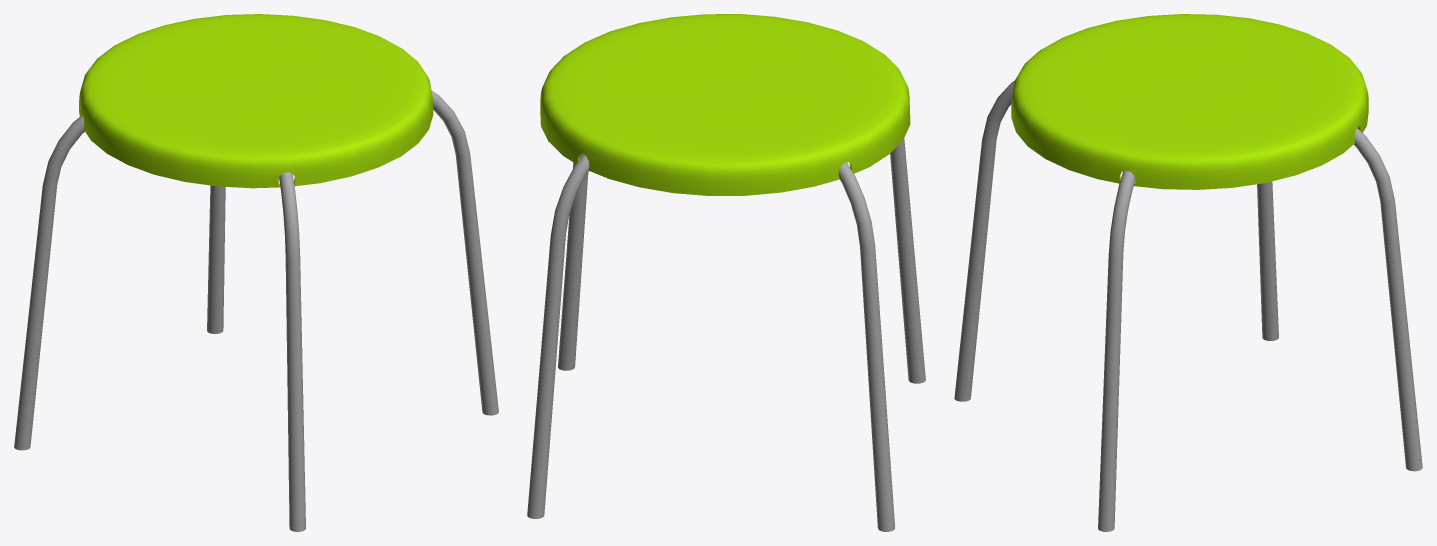
Rendered from Forsby_Small_Stool-3D.DAE.
The picture shows the model from 3 angles, left to right: view 1: azimuth 30°, elevation 25°; view 2: azimuth 150°, elevation 25°; view 3: azimuth 270°, elevation 25°; orthographic projection. The views are drawn at different scales.
Parts seen in each view (by area): view 1: Loft01, Loft04; view 2: Loft01, Loft04; view 3: Loft01, Loft04.
Part boxes in pixels (x1,y1,x2,y2): Loft01: [79, 14, 433, 188]; Loft04: [14, 90, 498, 531]; Loft01: [540, 14, 910, 195]; Loft04: [527, 138, 925, 531]; Loft01: [1011, 14, 1368, 189]; Loft04: [954, 80, 1422, 531].
Size of the model in its own units: 530 by 436 by 530.
